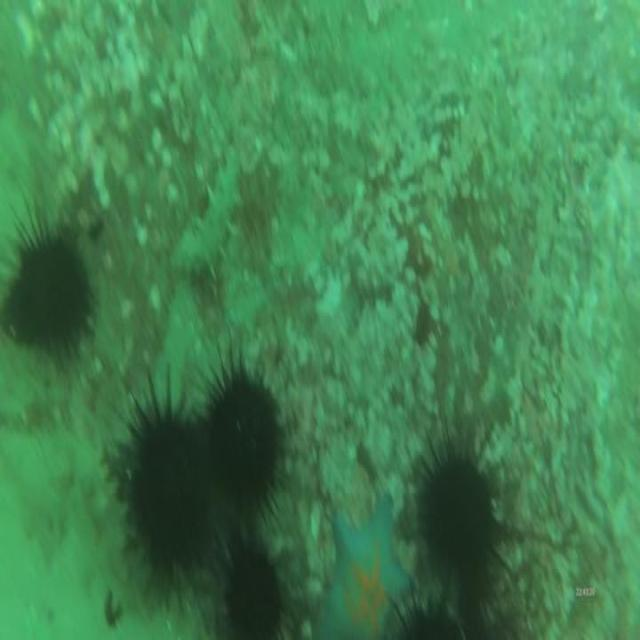echinus: (107, 373, 214, 597), (408, 411, 508, 596), (2, 193, 102, 374), (198, 332, 286, 536), (212, 531, 290, 640), (382, 577, 468, 640)
holothurian: (176, 134, 244, 282)
starfish: (311, 490, 416, 640)
